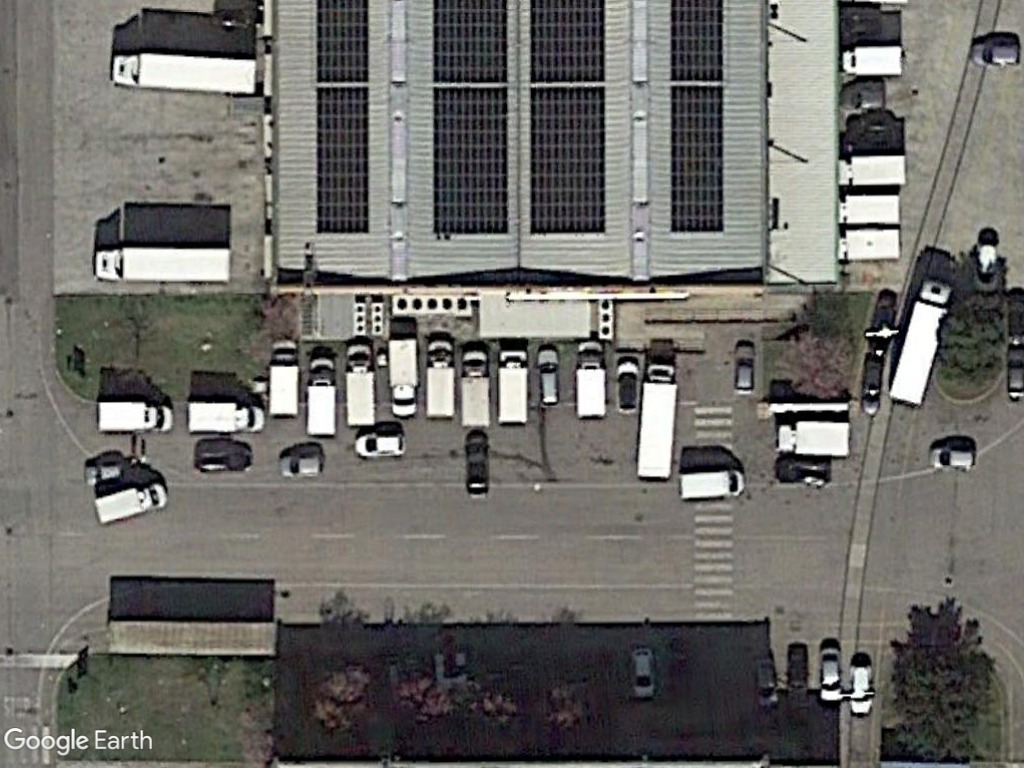car: (531, 342, 566, 413), (812, 643, 848, 706), (626, 645, 663, 706), (349, 431, 413, 462), (967, 38, 1024, 72), (612, 353, 642, 417), (730, 339, 761, 400), (274, 449, 330, 482), (923, 444, 979, 475)
truck: (886, 275, 956, 412), (104, 49, 260, 103), (89, 244, 234, 289), (634, 359, 681, 487), (340, 337, 383, 431), (86, 480, 170, 528), (770, 417, 858, 462), (420, 333, 461, 424), (304, 348, 344, 441), (491, 343, 533, 430), (383, 332, 425, 419), (180, 396, 266, 436), (93, 397, 178, 436), (457, 346, 496, 430), (572, 341, 612, 422), (266, 337, 303, 422), (835, 40, 908, 81)
van: (675, 467, 745, 504)
